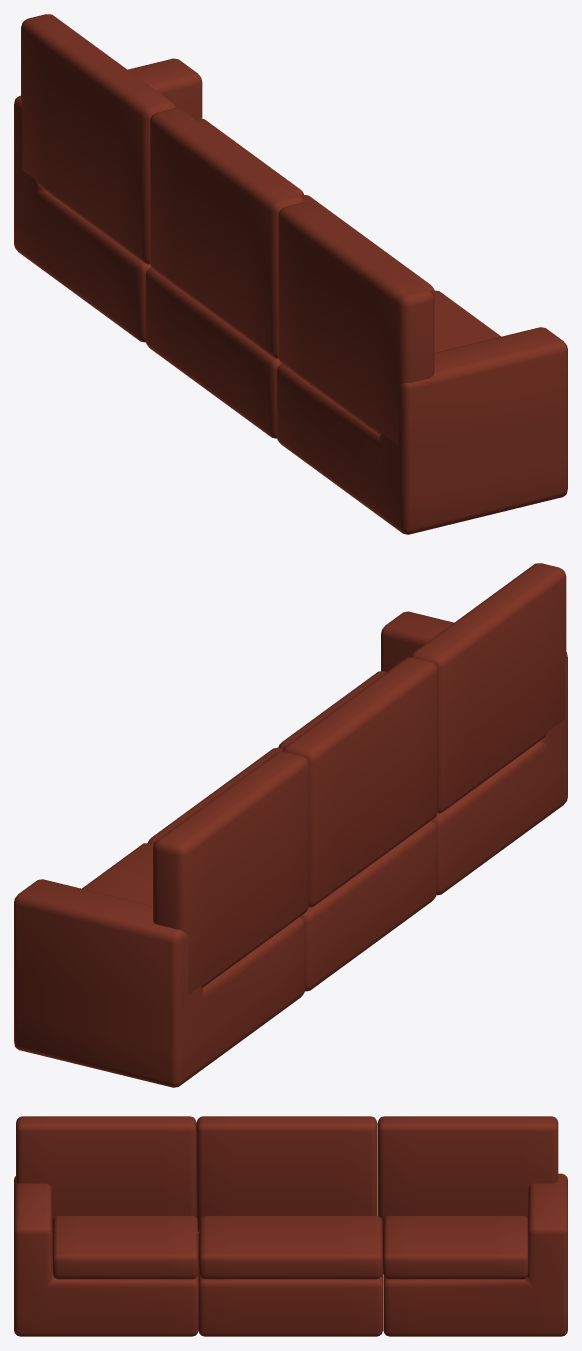
The model's file is Chair3.fbx.
The picture shows the model from 3 angles, top to bottom: view 1: azimuth 30°, elevation 25°; view 2: azimuth 150°, elevation 25°; view 3: azimuth 270°, elevation 25°; orthographic projection. The views are drawn at different scales.
Visible parts, largest first — view 1: Cube.005, Cube.006, Cube.010, Cube.011, Cube.009, Cube.008, Cube.007, Cube.012, Cube.013; view 2: Cube.009, Cube.011, Cube.010, Cube.006, Cube.005, Cube.008, Cube.013, Cube.012, Cube.007; view 3: Cube.010, Cube.011, Cube.006, Cube.009, Cube.005, Cube.012, Cube.008, Cube.007, Cube.013.
Part boxes in pixels (<box>): Cube.005: <box>276,327,567,534</box>; Cube.006: <box>278,202,434,445</box>; Cube.010: <box>150,108,305,358</box>; Cube.011: <box>21,14,176,264</box>; Cube.009: <box>14,58,202,342</box>; Cube.008: <box>145,267,281,438</box>; Cube.007: <box>430,290,500,352</box>; Cube.012: <box>300,195,434,291</box>; Cube.013: <box>196,118,303,195</box>; Cube.009: <box>14,879,305,1087</box>; Cube.011: <box>153,751,308,994</box>; Cube.010: <box>282,657,437,907</box>; Cube.006: <box>411,563,566,813</box>; Cube.005: <box>381,611,567,895</box>; Cube.008: <box>300,820,436,991</box>; Cube.013: <box>82,843,153,905</box>; Cube.012: <box>148,747,282,844</box>; Cube.007: <box>278,671,386,748</box>; Cube.010: <box>196,1116,377,1232</box>; Cube.011: <box>377,1116,558,1233</box>; Cube.006: <box>16,1116,196,1231</box>; Cube.009: <box>383,1173,567,1336</box>; Cube.005: <box>14,1176,198,1336</box>; Cube.012: <box>199,1215,382,1279</box>; Cube.008: <box>198,1233,382,1336</box>; Cube.007: <box>52,1215,197,1279</box>; Cube.013: <box>383,1215,528,1279</box>.
Bounding box in the file's own units: 217 × 296 × 889.
